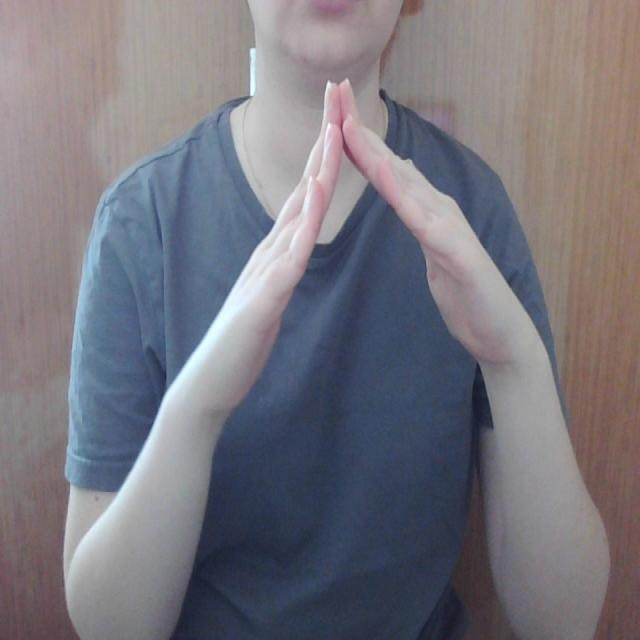Ev: (194, 63, 545, 379)
